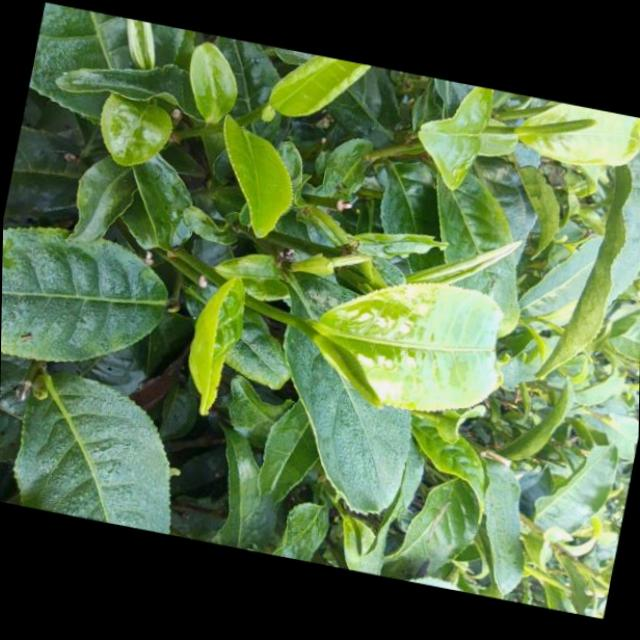Stem: (281, 312, 305, 332)
